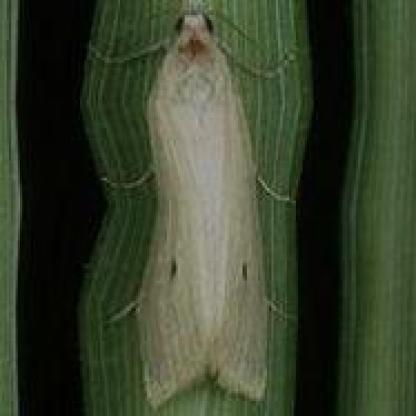stem-borer: (119, 0, 282, 416)
